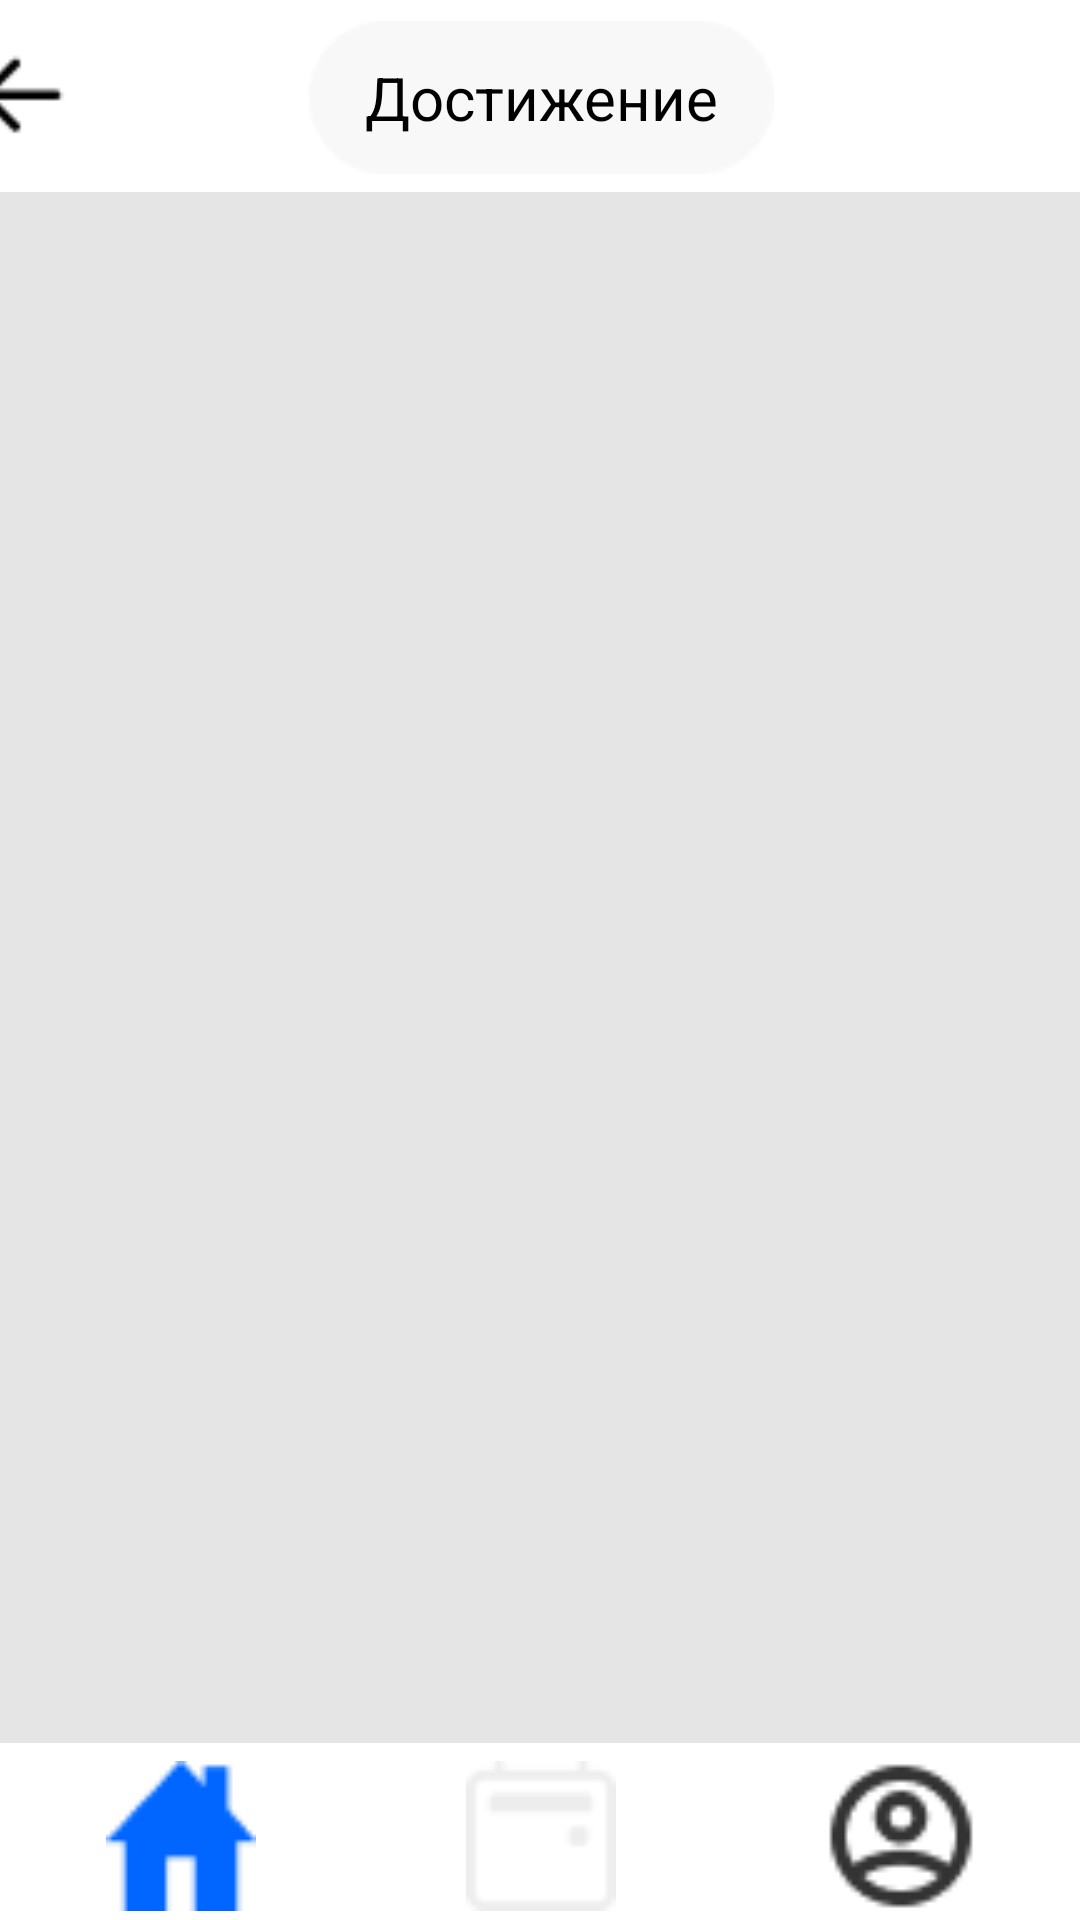

Icons on this 1080 x 1920 Android screen, each with its box as (x1, y1, x2, y2):
home: (106, 1761, 256, 1911)
profile: (829, 1764, 973, 1908)
